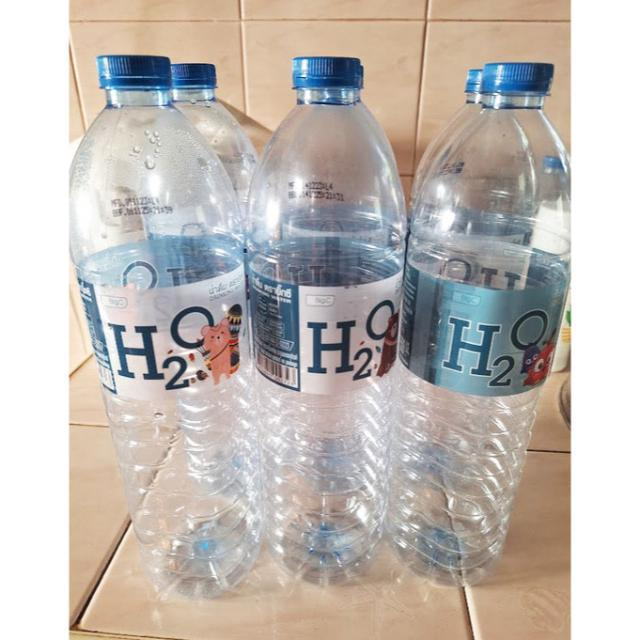PET Bottle: (61, 44, 265, 596), (212, 48, 404, 590), (406, 77, 575, 605)
